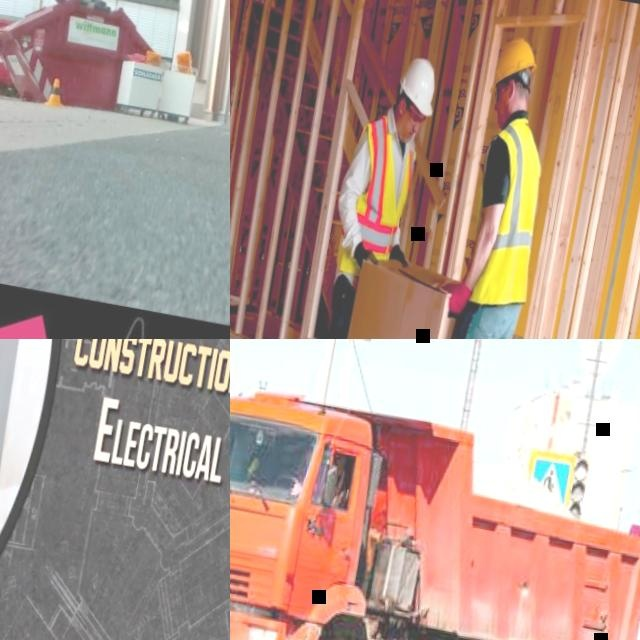Hardhat: (488, 33, 540, 101), (395, 53, 441, 116)
NO-Mask: (396, 120, 418, 143), (492, 103, 511, 127)
Person: (406, 28, 571, 339), (283, 45, 443, 339), (290, 451, 331, 504)
Safety Cone: (43, 77, 66, 108)
Safety Vest: (460, 111, 556, 305), (331, 106, 422, 280)
machinery: (230, 357, 640, 640), (598, 507, 640, 640)
